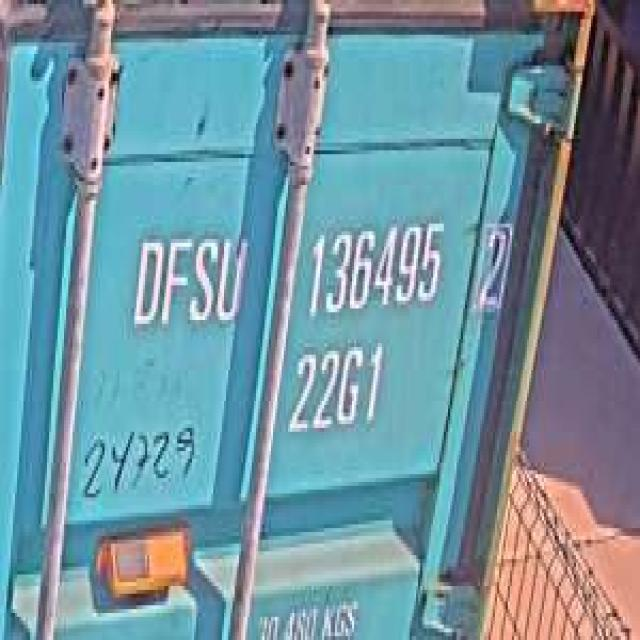dv: (472, 214, 514, 325)
owner: (126, 220, 247, 335)
serial: (303, 208, 446, 324)
size: (286, 336, 386, 440)
